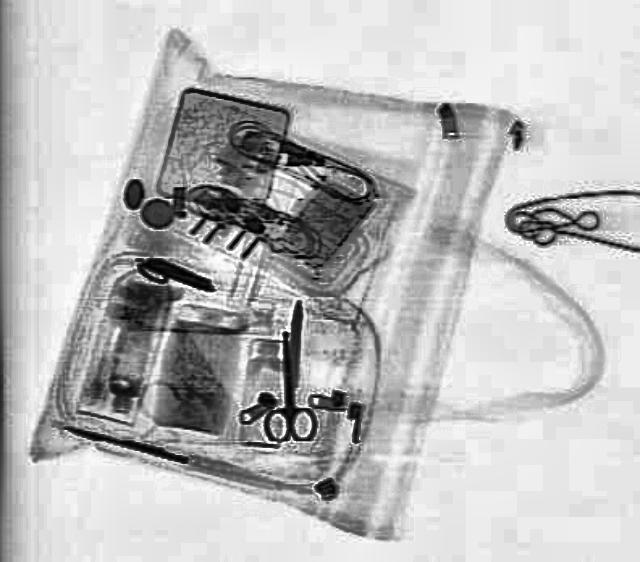Scissors: (257, 330, 313, 442)
